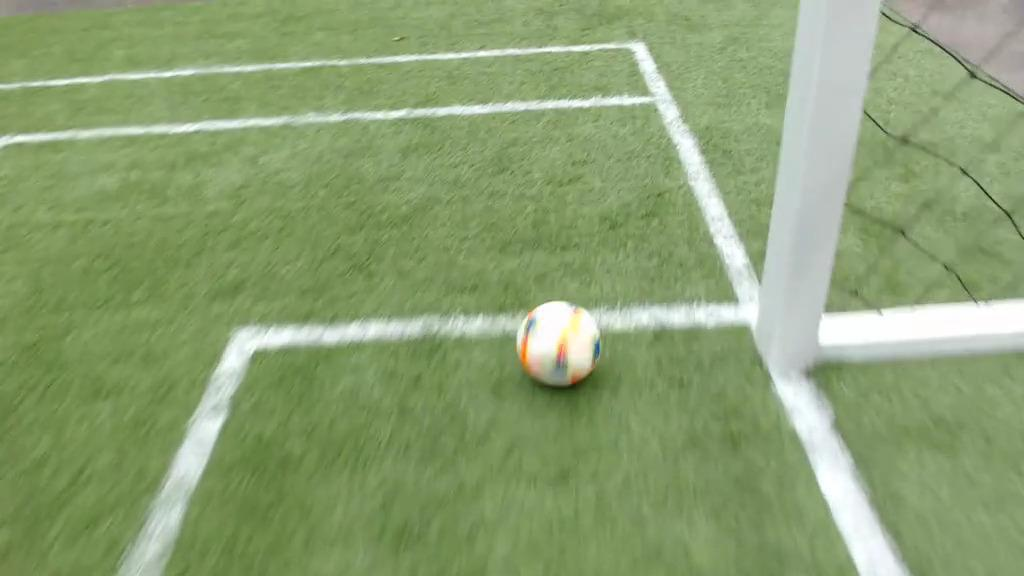ball: (517, 301, 600, 385)
